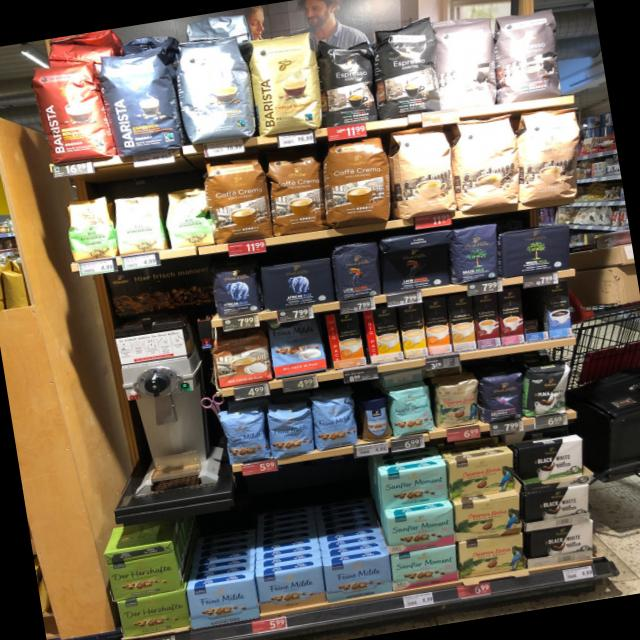AB Bohne: (208, 262, 264, 319)
AB Gemahlen: (259, 256, 336, 314)
Athiopien Bohne: (62, 194, 120, 264)
Athiopien Gemahlen: (112, 190, 168, 256), (161, 184, 215, 252)
BM Bohne: (451, 222, 505, 284)
BM Gemahlen: (498, 221, 576, 279)
BW Bohne: (520, 360, 577, 420)
BW Gemahlen: (514, 436, 588, 488), (521, 482, 594, 531), (528, 520, 600, 568)
Barista CB: (246, 29, 326, 136)
Barista CC: (175, 32, 258, 146)
Barista Espresso: (98, 43, 185, 156)
Barista Kolumbien: (28, 53, 116, 166)
C Fino Bohne: (479, 370, 528, 424)
CC Mild: (513, 105, 591, 205), (450, 113, 528, 212), (386, 123, 459, 220)
CC Vollmundig: (212, 330, 273, 388)
CC Vollmundig 36 Pads: (317, 134, 396, 229), (204, 153, 274, 245), (264, 149, 328, 236)
Colombia BB Bohne: (432, 376, 484, 430)
Colombia BB Gemahlen: (447, 450, 519, 500), (453, 493, 525, 542), (457, 532, 528, 580)
Espresso Aromatisch: (492, 5, 570, 104), (431, 11, 504, 112)
Espresso Kraftig: (372, 17, 446, 118), (314, 31, 380, 126)
FM 36 Pads: (268, 320, 329, 379)
FM Bohne: (216, 408, 272, 467), (266, 402, 318, 459), (310, 394, 359, 451)
FM Gemahlen: (186, 578, 261, 628), (255, 564, 328, 612), (324, 554, 395, 601)
FM Instant: (356, 394, 394, 444)
Herzhatfe Mundig: (106, 552, 182, 602), (118, 590, 192, 638)
LG Bohne: (329, 238, 385, 300)
LG Gemahlen: (381, 243, 454, 295)
SM Bohne: (387, 384, 437, 438)
SM Gemahlen: (384, 506, 458, 554), (378, 463, 452, 510), (390, 544, 461, 591)
Simo CCMild: (363, 306, 403, 364)
Simo CCMild bigpack: (398, 302, 428, 358)
Simo CCVollmundig: (326, 311, 366, 368)
Simo CCVollmundig bigpack: (422, 297, 452, 355)
Simo Decaff: (447, 293, 478, 352)
Simo Es Caramel: (472, 292, 501, 348), (498, 287, 525, 345)
Simo Es Vanilla: (547, 280, 573, 338)
